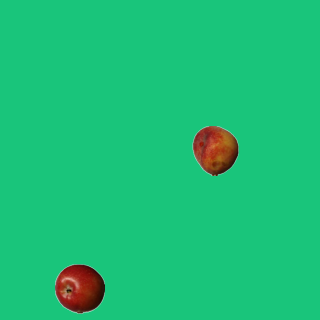Apple Braeburn: (54, 263, 104, 313)
Peach: (190, 125, 240, 175)
